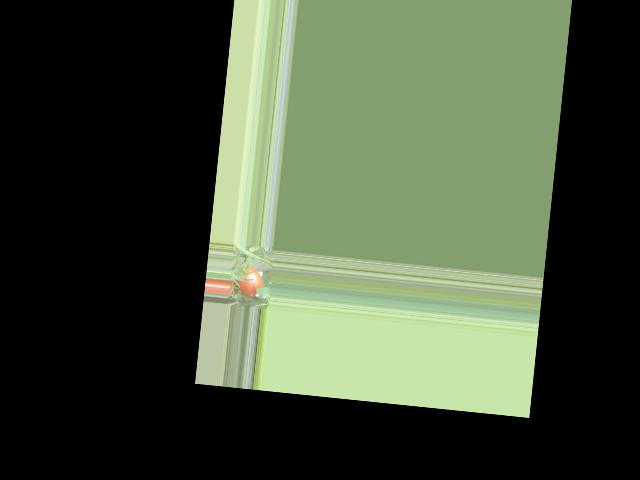tomato: (235, 265, 264, 298)
